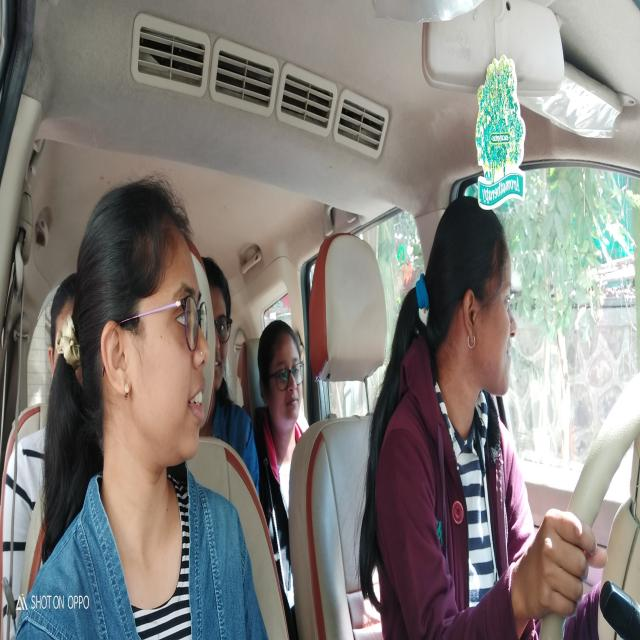LeftRight: (434, 188, 514, 400)
person: (77, 180, 209, 462), (258, 319, 305, 428), (202, 255, 237, 396), (42, 282, 74, 368)
